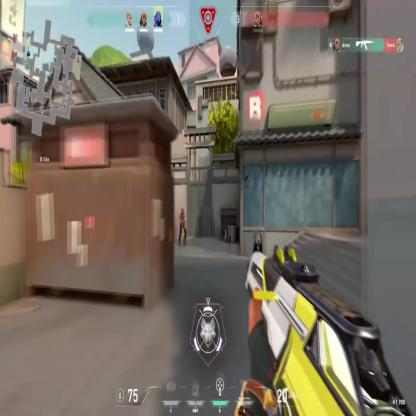enemy: (177, 206, 189, 247)
enemy_head: (181, 207, 184, 213)
